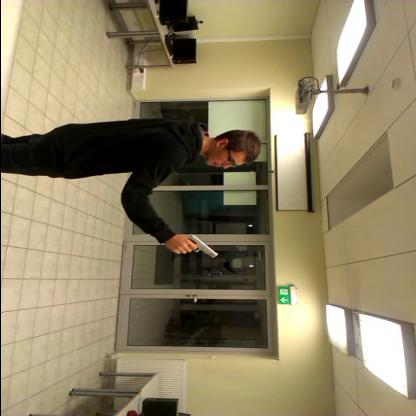Pistol: (170, 229, 219, 266)
